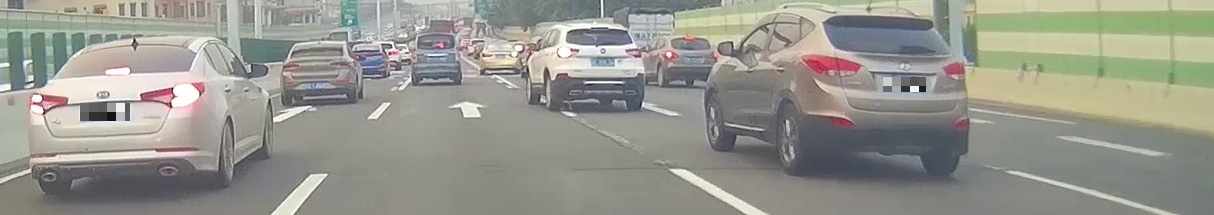L_light: (802, 54, 863, 77), (30, 93, 68, 114), (557, 48, 580, 58), (665, 50, 679, 58), (282, 63, 299, 69), (412, 50, 417, 62), (482, 53, 492, 57)
R_light: (140, 81, 205, 107), (942, 61, 966, 80), (626, 48, 641, 58), (330, 60, 350, 67), (709, 51, 718, 58), (454, 48, 459, 60), (508, 53, 518, 57)
T_light: (104, 67, 131, 75), (866, 16, 890, 21), (591, 26, 608, 31), (311, 44, 326, 47), (684, 36, 693, 40), (432, 34, 440, 37), (496, 43, 503, 45)
day-brake: (28, 36, 207, 194)
day-left: (556, 23, 645, 110), (664, 36, 719, 87)
day-no: (802, 11, 969, 175), (280, 40, 353, 106), (411, 32, 461, 84)
day-right: (481, 41, 520, 74)
plate_1: (80, 103, 130, 121)
plate_2: (883, 77, 926, 92)
